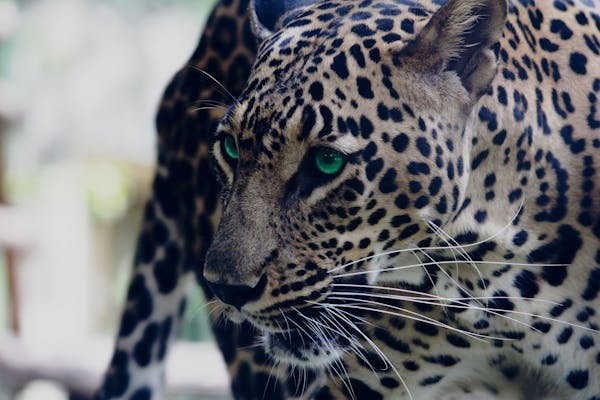Leopard: (98, 2, 600, 400)
